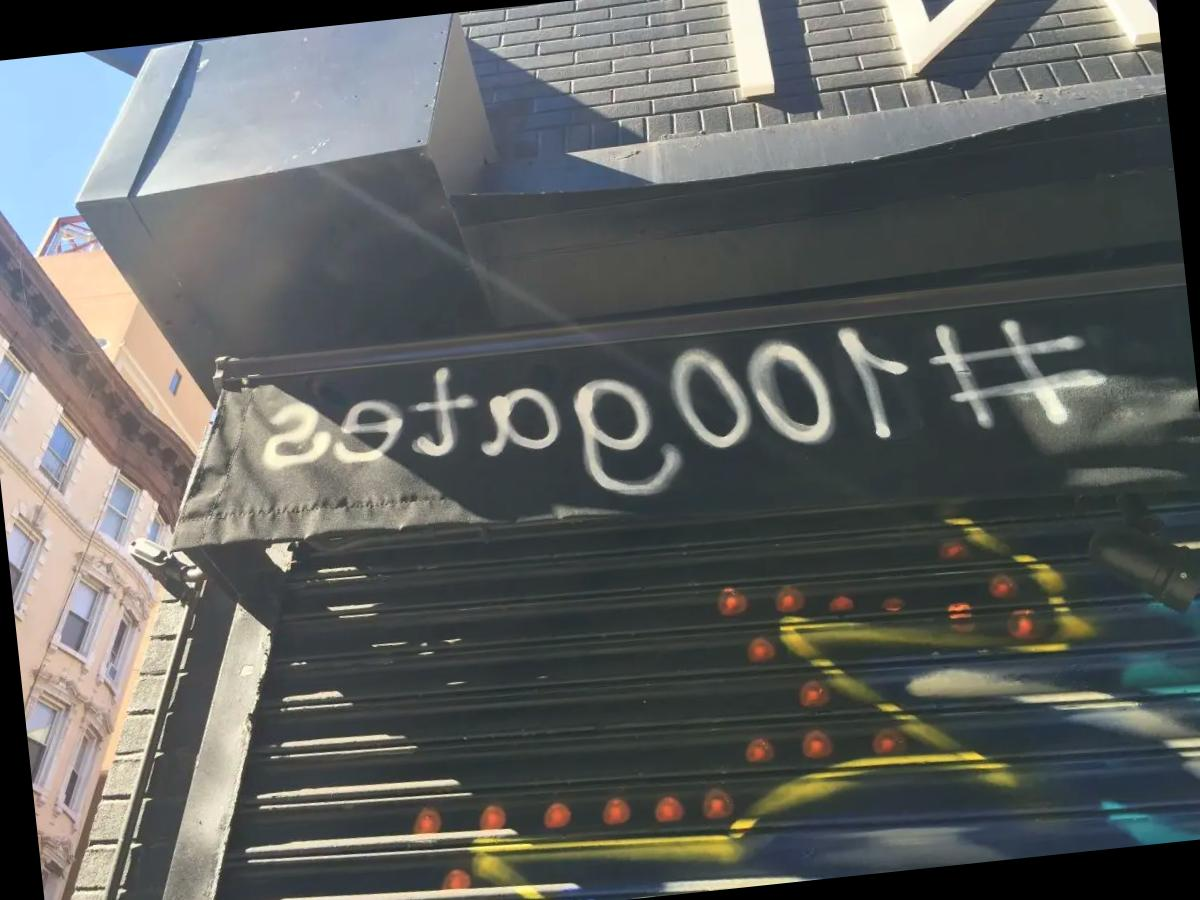graffiti: (373, 504, 1158, 900), (214, 286, 1088, 540)
